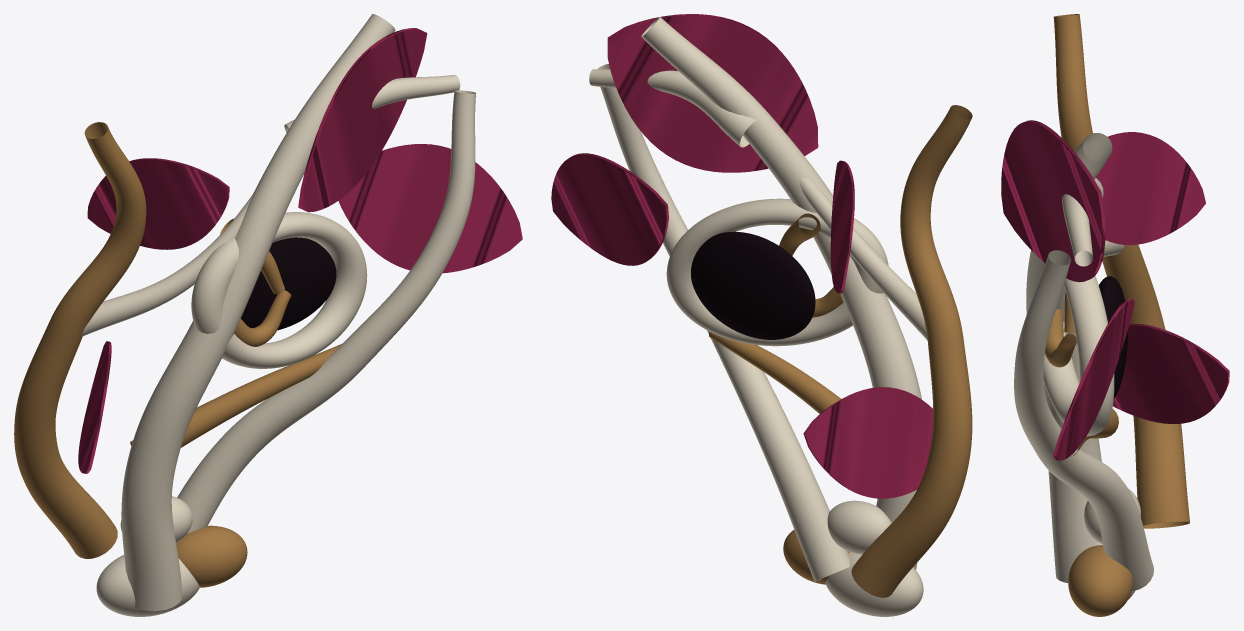
The model's file is tidal-ossicle-canopy.glb.
The picture shows the model from 3 angles, left to right: view 1: azimuth 30°, elevation 25°; view 2: azimuth 150°, elevation 25°; view 3: azimuth 270°, elevation 25°; orthographic projection. The views are drawn at different scales.
Visible parts, largest first — view 1: primary_calcified_frond, rear_hooked_frond, forward_branching_frond, right_folded_leaf, upper_manta_leaf, suspended_seed_pod_rim, rear_shadow_leaf, seed_pod_dark_recess, lower_bridge_branch, cross_current_branch, fused_reef_anchor_2, fused_reef_anchor_1 (+4 smaller); view 2: rear_hooked_frond, upper_manta_leaf, primary_calcified_frond, forward_branching_frond, left_low_leaf, seed_pod_dark_recess, right_folded_leaf, suspended_seed_pod_rim, cross_current_branch, fused_reef_anchor_1, upper_bridge_branch, lower_bridge_branch (+4 smaller); view 3: forward_branching_frond, rear_hooked_frond, upper_manta_leaf, rear_shadow_leaf, left_low_leaf, primary_calcified_frond, suspended_seed_pod_rim, right_folded_leaf, fused_reef_anchor_2, upper_bridge_branch, seed_pod_dark_recess, pod_cradle_branch (+2 smaller).
Part boxes in pixels (box(x1,y1,x2,y2)): primary_calcified_frond: box(121, 14, 395, 611); rear_hooked_frond: box(14, 122, 146, 558); forward_branching_frond: box(177, 90, 476, 533); right_folded_leaf: box(338, 144, 522, 273); upper_manta_leaf: box(298, 28, 427, 212); suspended_seed_pod_rim: box(191, 212, 367, 368); rear_shadow_leaf: box(87, 158, 229, 249); seed_pod_dark_recess: box(241, 237, 336, 330); lower_bridge_branch: box(130, 344, 341, 447); cross_current_branch: box(82, 194, 252, 336); fused_reef_anchor_2: box(176, 525, 247, 587); fused_reef_anchor_1: box(96, 555, 199, 616); rear_hooked_frond: box(851, 105, 972, 597); upper_manta_leaf: box(607, 14, 818, 172); primary_calcified_frond: box(641, 17, 921, 569); forward_branching_frond: box(597, 64, 849, 581); left_low_leaf: box(803, 387, 933, 498); seed_pod_dark_recess: box(691, 231, 815, 339); right_folded_leaf: box(551, 153, 668, 265); suspended_seed_pod_rim: box(666, 198, 888, 346); cross_current_branch: box(799, 177, 927, 340); fused_reef_anchor_1: box(825, 552, 923, 616); upper_bridge_branch: box(589, 69, 757, 147); lower_bridge_branch: box(709, 332, 840, 413); forward_branching_frond: box(1014, 250, 1153, 590); rear_hooked_frond: box(1053, 14, 1189, 528); upper_manta_leaf: box(1001, 120, 1105, 282); rear_shadow_leaf: box(1095, 132, 1205, 245); left_low_leaf: box(1113, 324, 1229, 423); primary_calcified_frond: box(1026, 132, 1112, 582); suspended_seed_pod_rim: box(1043, 275, 1114, 436); right_folded_leaf: box(1053, 298, 1134, 460); fused_reef_anchor_2: box(1068, 545, 1133, 616); upper_bridge_branch: box(1062, 178, 1103, 266); seed_pod_dark_recess: box(1099, 276, 1127, 398); pod_cradle_branch: box(1045, 309, 1076, 367).
Size of the model in its own units: 141 by 159 by 56.27.
